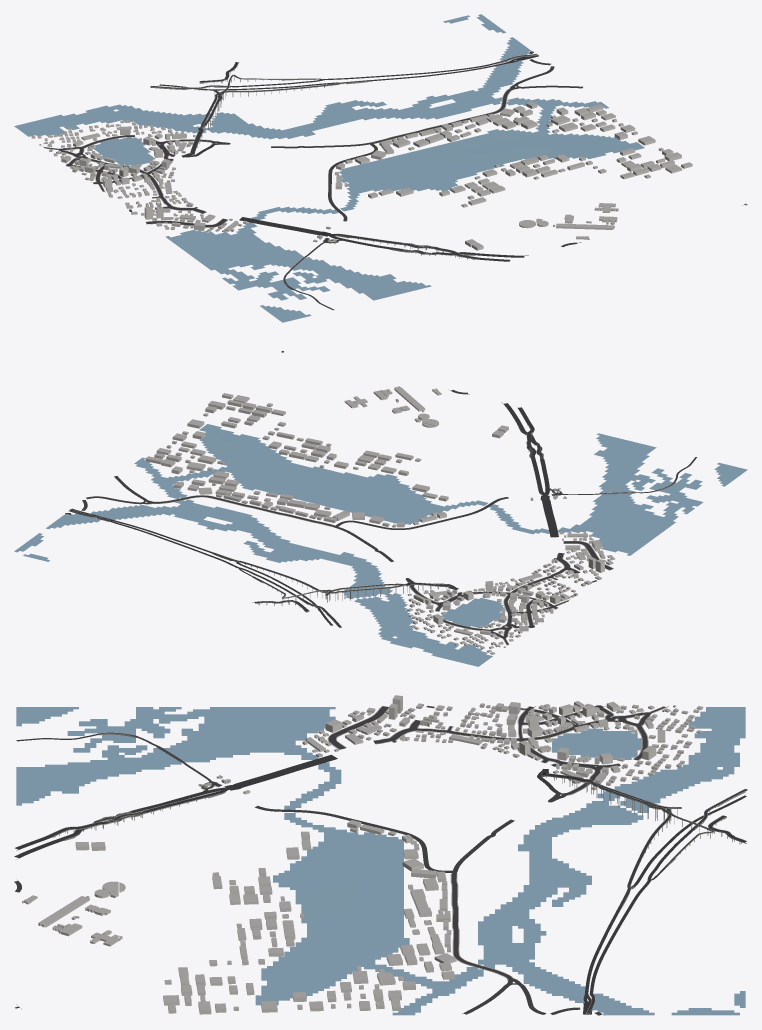
File: chunk_5_5.glb
3 views of the same model, one above another, from view 1: azimuth 30°, elevation 25°; view 2: azimuth 150°, elevation 25°; view 3: azimuth 270°, elevation 25° (orthographic). The views are drawn at different scales.
Parts seen in each view (by area): view 1: Water_5_5, Filler_5_5, Roads_5_5, RoadSides_5_5, Buildings_5_5; view 2: Water_5_5, Filler_5_5, Roads_5_5, RoadSides_5_5, Buildings_5_5; view 3: Water_5_5, Filler_5_5, Roads_5_5, RoadSides_5_5, Buildings_5_5.
Part boxes in pixels (x1,y1,x2,y2): Water_5_5: (14,14,644,322); Filler_5_5: (31,101,692,250); Roads_5_5: (44,51,747,310); RoadSides_5_5: (42,54,538,290); Buildings_5_5: (97,147,618,243); Water_5_5: (14,424,747,666); Filler_5_5: (145,393,615,654); Roads_5_5: (65,351,696,644); RoadSides_5_5: (70,423,675,645); Buildings_5_5: (344,386,578,617); Water_5_5: (16,707,745,1015); Filler_5_5: (75,695,703,1014); Roads_5_5: (14,705,747,1015); RoadSides_5_5: (48,706,747,1014); Buildings_5_5: (22,715,591,946).
Size of the model in its own units: 2070 by 50.72 by 2061.
